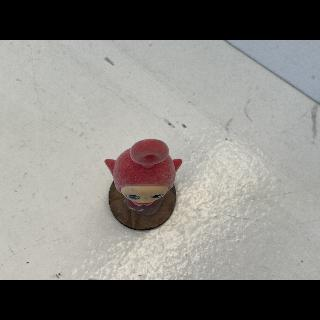teletubby: (104, 139, 182, 207)
